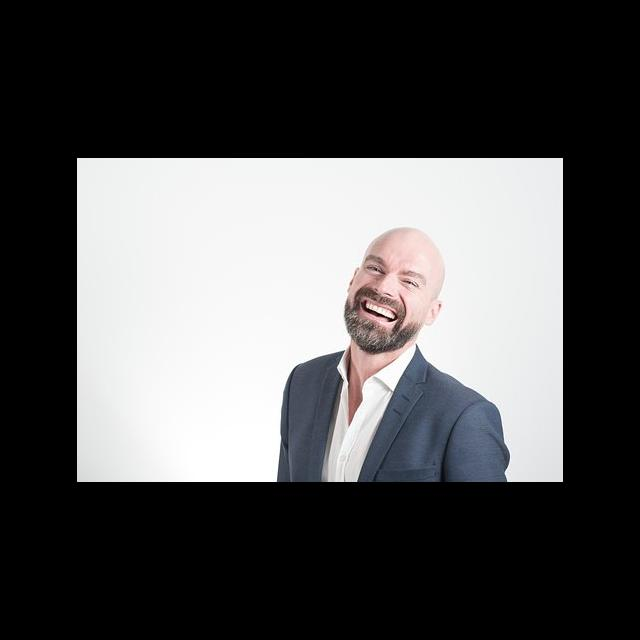male: (286, 192, 469, 386)
